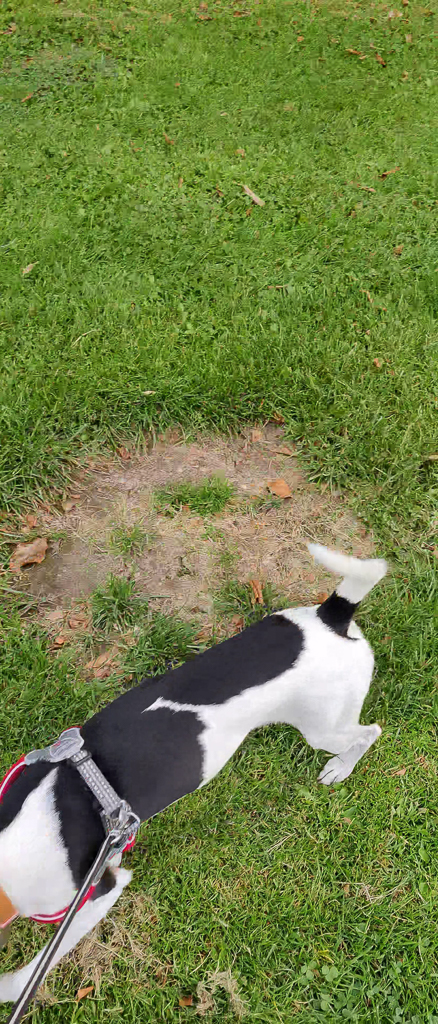Dog: (0, 529, 403, 1013)
